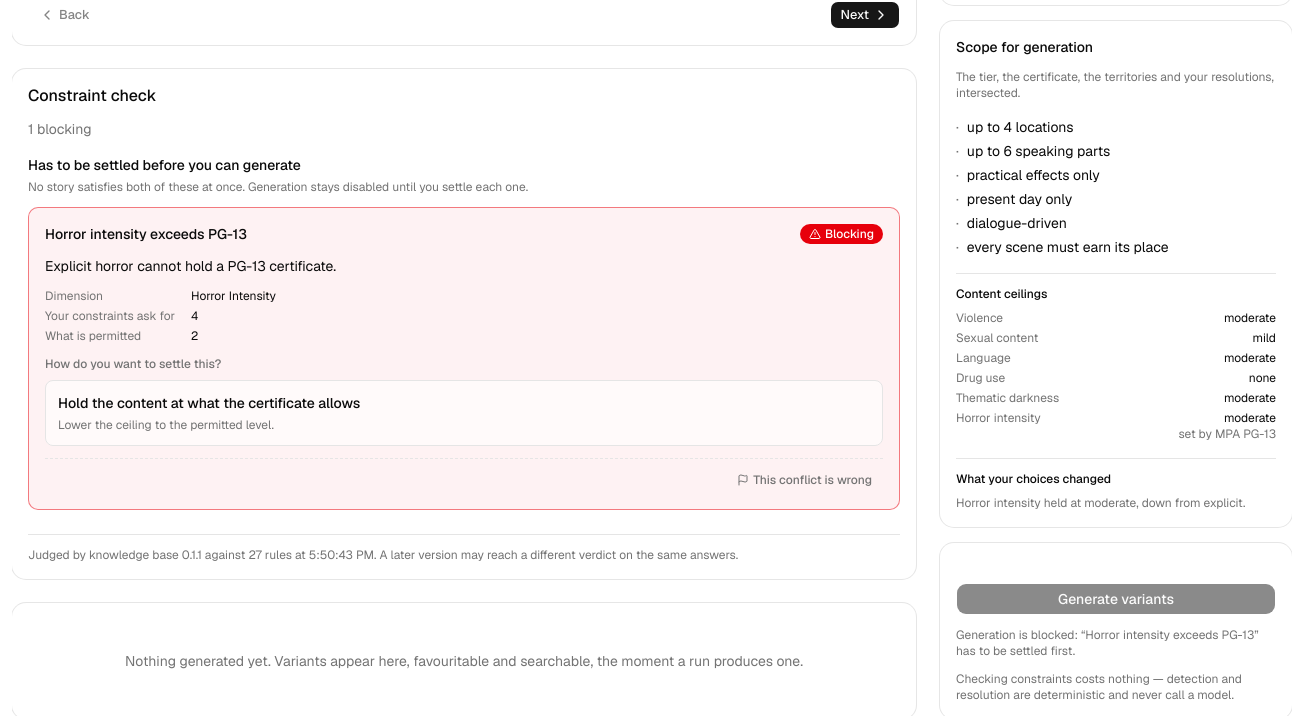
Test: Generation › files a false-positive report for a flagged rule once generation succeeds
(page scrolled)
Click the radio button labelled "Hold the content": coordinates (209, 403) x1=45 y1=380 x2=883 y2=446
Wait 360 ms
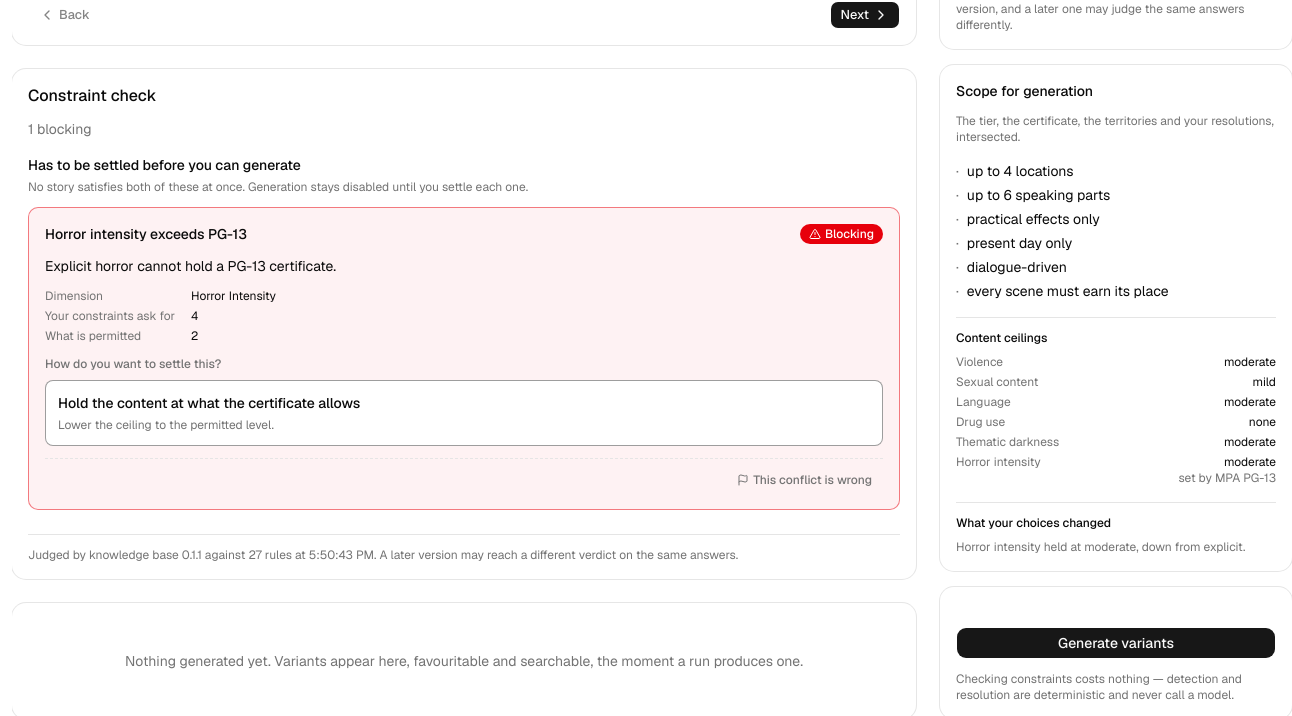
Now the button "Generate variants" is enabled, box x1=956 y1=627 x2=1276 y2=659
Click the button "This conflict is wrong": coordinates (805, 480) x1=726 y1=467 x2=883 y2=493
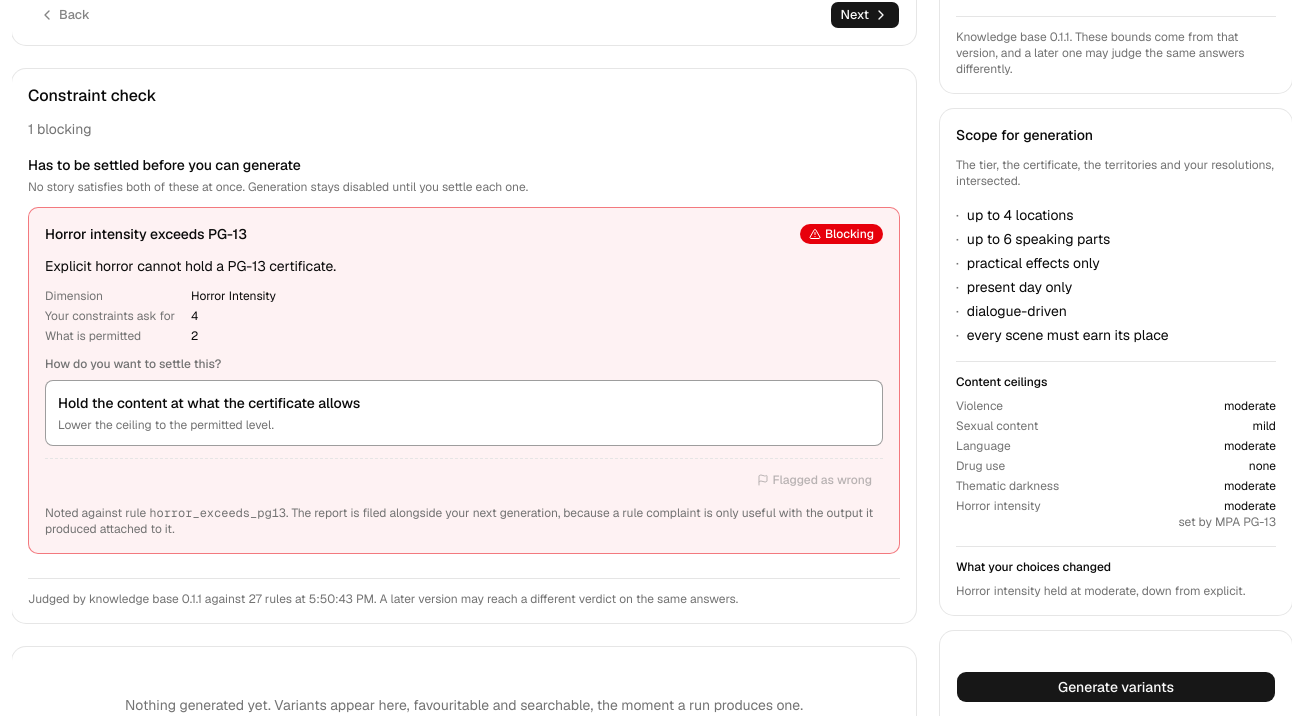
Now the button "Flagged as wrong" is shown, box x1=746 y1=467 x2=883 y2=493
Click the button "Generate variants": coordinates (1116, 687) x1=956 y1=671 x2=1276 y2=703
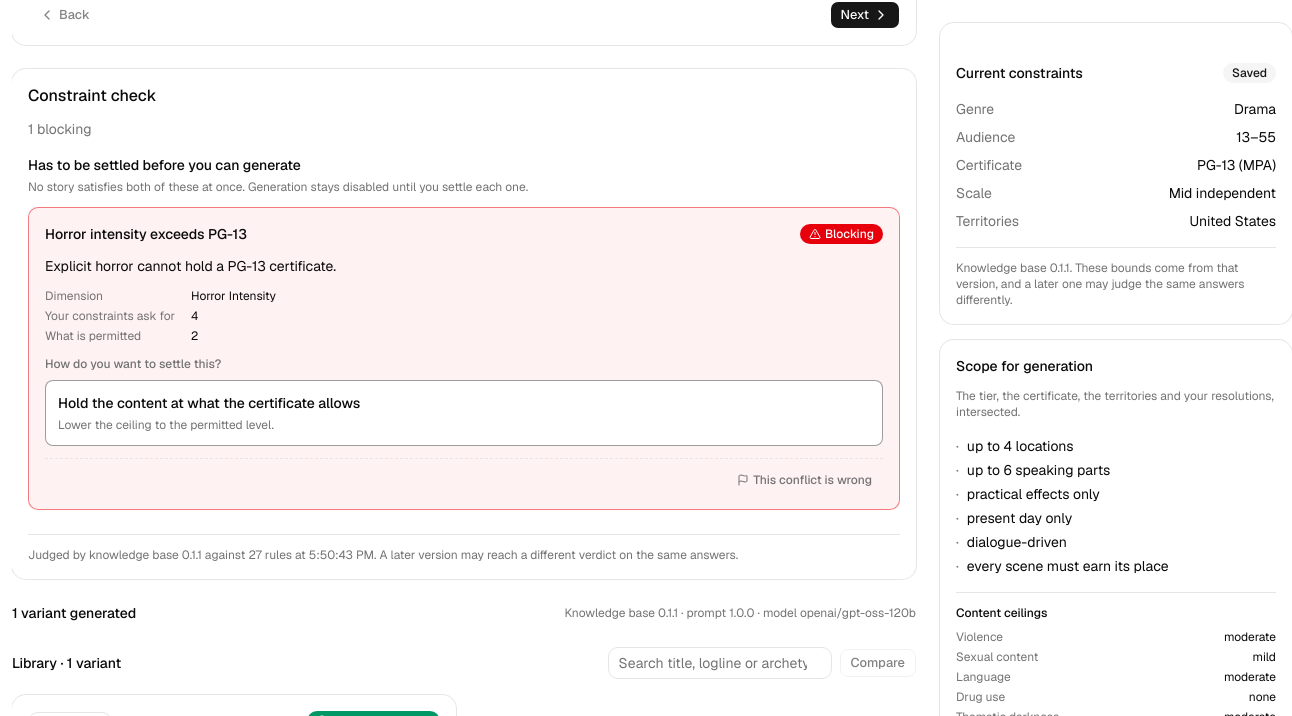
Now the button "This conflict is wrong" is shown, box x1=726 y1=467 x2=883 y2=493
